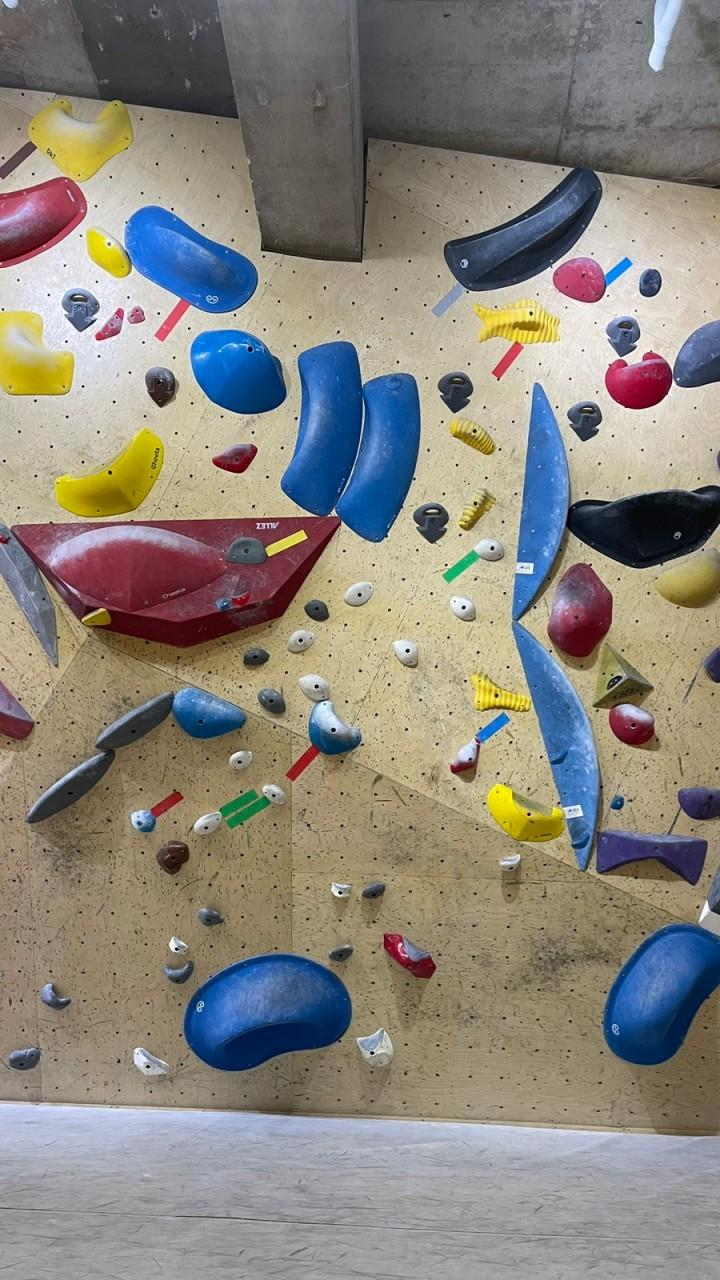hold: (513, 622, 600, 869), (184, 954, 351, 1071), (445, 167, 600, 291), (603, 923, 719, 1065), (280, 342, 362, 515), (336, 374, 420, 542), (125, 207, 258, 313), (514, 384, 568, 620), (567, 487, 719, 568), (57, 429, 163, 518), (29, 98, 132, 182), (191, 330, 285, 414), (0, 176, 86, 265), (27, 751, 114, 824), (547, 563, 612, 658), (0, 312, 74, 395), (596, 830, 707, 885), (96, 692, 173, 751), (487, 784, 564, 842), (605, 351, 672, 409), (474, 301, 559, 345), (656, 549, 719, 607), (173, 688, 245, 737), (673, 320, 719, 387), (309, 700, 362, 753), (472, 673, 531, 712), (553, 258, 604, 303), (383, 934, 435, 977), (86, 229, 132, 277), (0, 681, 34, 740), (609, 704, 654, 747), (62, 289, 99, 332), (450, 420, 494, 454), (413, 502, 449, 543), (438, 371, 472, 413), (357, 1028, 392, 1067), (459, 490, 494, 529), (679, 787, 719, 820), (568, 403, 602, 441), (607, 317, 639, 357), (145, 367, 176, 407), (224, 537, 266, 565), (212, 447, 256, 472), (450, 738, 479, 773), (133, 1047, 169, 1075), (299, 674, 329, 702), (96, 310, 123, 341), (40, 983, 70, 1010), (258, 688, 285, 717), (8, 1047, 40, 1071), (345, 581, 373, 606), (193, 811, 221, 836), (474, 539, 503, 562), (287, 629, 314, 652), (394, 640, 417, 666), (164, 962, 193, 982), (131, 810, 156, 833), (243, 646, 269, 668), (81, 608, 111, 627), (640, 268, 661, 295), (450, 598, 475, 620), (704, 647, 719, 683), (305, 599, 328, 622), (229, 750, 252, 770), (198, 909, 223, 925), (330, 944, 352, 962), (362, 883, 385, 900), (263, 786, 285, 803), (502, 854, 519, 873), (606, 674, 625, 691), (169, 937, 187, 953), (128, 307, 144, 322), (331, 884, 349, 897), (610, 795, 624, 810), (218, 599, 231, 611), (0, 537, 9, 545)
volume: (13, 517, 338, 647), (0, 523, 57, 665), (594, 640, 652, 707)
